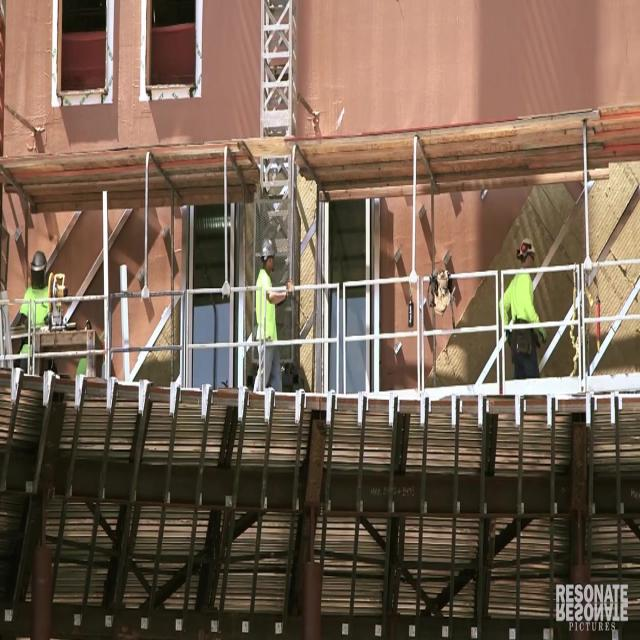Reflective-Jacket: (501, 269, 543, 336), (253, 270, 280, 342), (570, 293, 604, 346), (20, 280, 54, 329)
Safety-Helmet: (514, 233, 538, 263), (29, 247, 49, 275), (582, 259, 601, 288), (259, 234, 277, 260)
